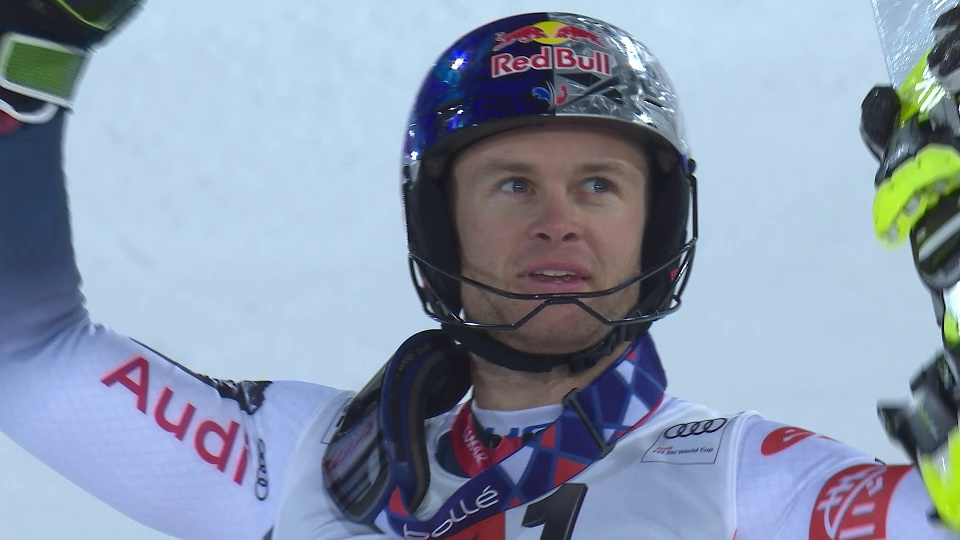audi: (648, 411, 737, 458)
redbull: (475, 17, 620, 88)
